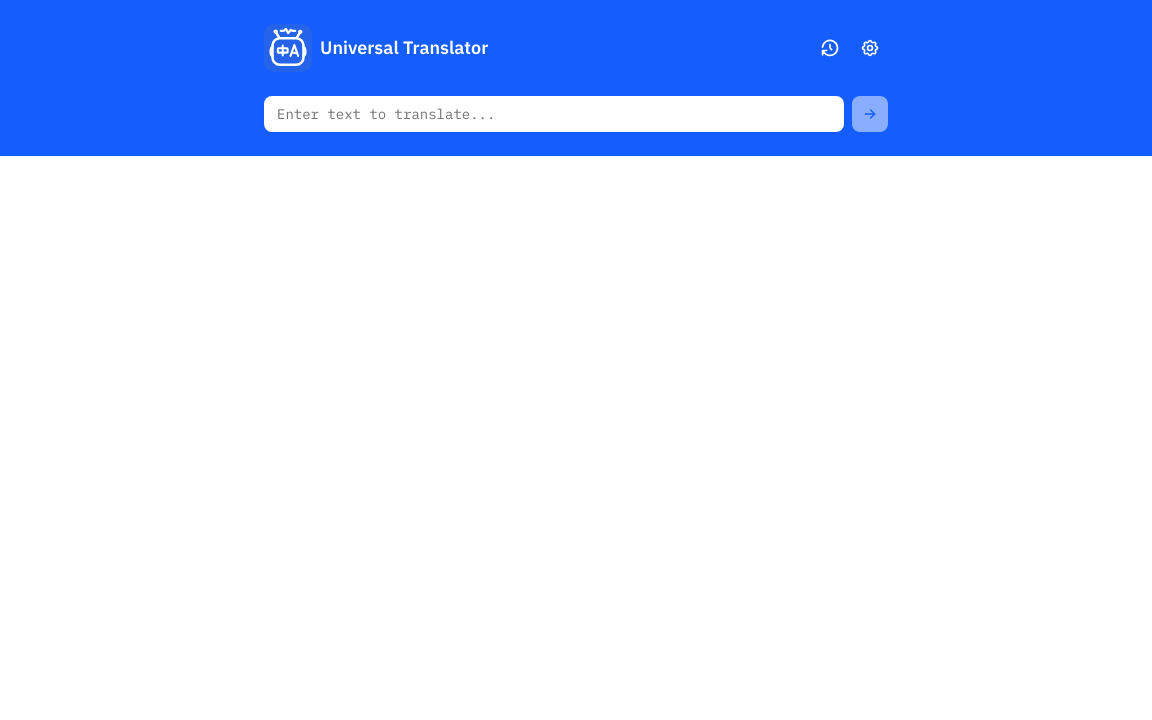
Test: App alternate source selection › shows alternate source buttons when translation has alternateSources
Type "hola" into the field with placeholder "Enter text to translate...". click: (554, 114)
box: x1=264 y1=96 x2=844 y2=132
Then press Enter
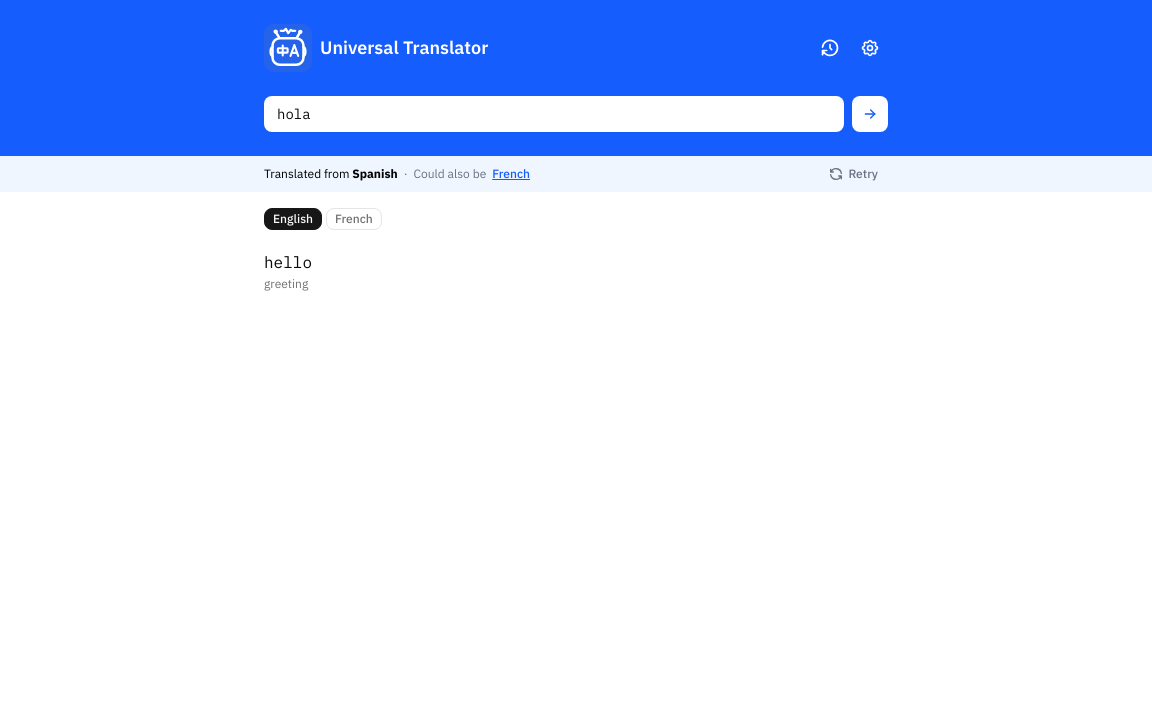
expect the text "Translated from" is shown: met, box x1=264 y1=166 x2=352 y2=181
expect the text "Could also be" is shown: met, box x1=414 y1=166 x2=486 y2=182
expect the button with aria-label "translate as french" is shown: met, box x1=492 y1=166 x2=530 y2=182
